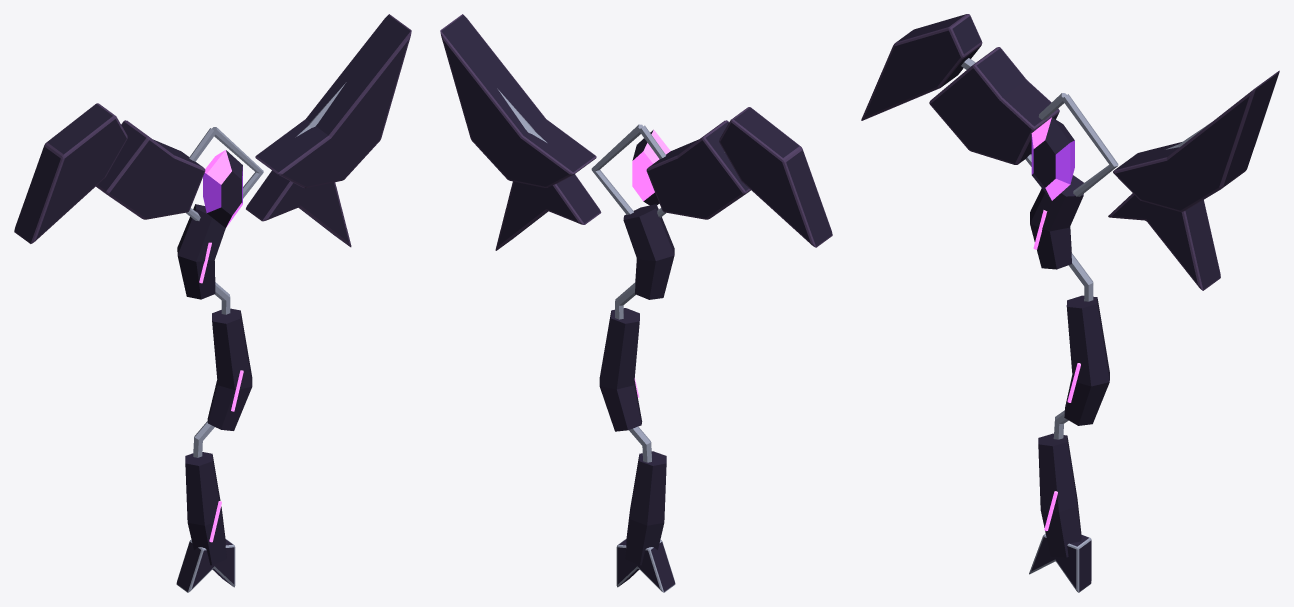
File: BH_PICK_P16_Fragmento_Void_V02.glb
The picture shows the model from 3 angles, left to right: view 1: azimuth 30°, elevation 25°; view 2: azimuth 150°, elevation 25°; view 3: azimuth 330°, elevation 25°; orthographic projection. The views are drawn at different scales.
Visible parts, largest first — view 1: P16 | right displaced tooth.001, P16 | left floating tooth.001, P16 | left anchor.001, P16 | upper displaced handle.001, P16 | lower broken prong.001, P16 | lower displaced handle.001, P16 | neck fragment.001, P16 | suspended void prism.001, P16 | forked pommel.001, P16 | open diamond frame.003; view 2: P16 | right displaced tooth.001, P16 | left floating tooth.001, P16 | left anchor.001, P16 | upper displaced handle.001, P16 | lower broken prong.001, P16 | lower displaced handle.001, P16 | neck fragment.001, P16 | forked pommel.001, P16 | suspended void prism.001, P16 | open diamond frame.003; view 3: P16 | right displaced tooth.001, P16 | left anchor.001, P16 | left floating tooth.001, P16 | lower broken prong.001, P16 | upper displaced handle.001, P16 | lower displaced handle.001, P16 | neck fragment.001, P16 | suspended void prism.001, P16 | forked pommel.001, P16 | open diamond frame.003.
Part boxes in pixels (x1,y1,x2,y2): P16 | right displaced tooth.001: (255,14,411,188); P16 | left floating tooth.001: (14,103,127,243); P16 | left anchor.001: (96,120,205,219); P16 | upper displaced handle.001: (207,308,252,430); P16 | lower broken prong.001: (246,170,351,247); P16 | lower displaced handle.001: (185,452,226,565); P16 | neck fragment.001: (177,204,225,299); P16 | suspended void prism.001: (203,150,242,227); P16 | forked pommel.001: (176,539,235,592); P16 | open diamond frame.003: (212,127,263,198); P16 | right displaced tooth.001: (440,14,596,187); P16 | left floating tooth.001: (719,107,832,247); P16 | left anchor.001: (646,120,750,219); P16 | upper displaced handle.001: (599,308,642,431); P16 | lower broken prong.001: (495,174,601,250); P16 | lower displaced handle.001: (625,451,666,565); P16 | neck fragment.001: (623,204,674,299); P16 | forked pommel.001: (616,539,675,592); P16 | suspended void prism.001: (632,129,670,205); P16 | open diamond frame.003: (591,124,643,214); P16 | right displaced tooth.001: (1113,70,1279,211); P16 | left anchor.001: (929,47,1059,164); P16 | left floating tooth.001: (861,14,982,120); P16 | lower broken prong.001: (1108,193,1220,290); P16 | upper displaced handle.001: (1064,295,1109,425); P16 | lower displaced handle.001: (1038,433,1081,557); P16 | neck fragment.001: (1030,175,1083,269); P16 | suspended void prism.001: (1031,117,1074,200); P16 | forked pommel.001: (1029,533,1091,592); P16 | open diamond frame.003: (1063,94,1118,196).
Size of the model in its own units: 2.6 by 3.44 by 0.3916.
